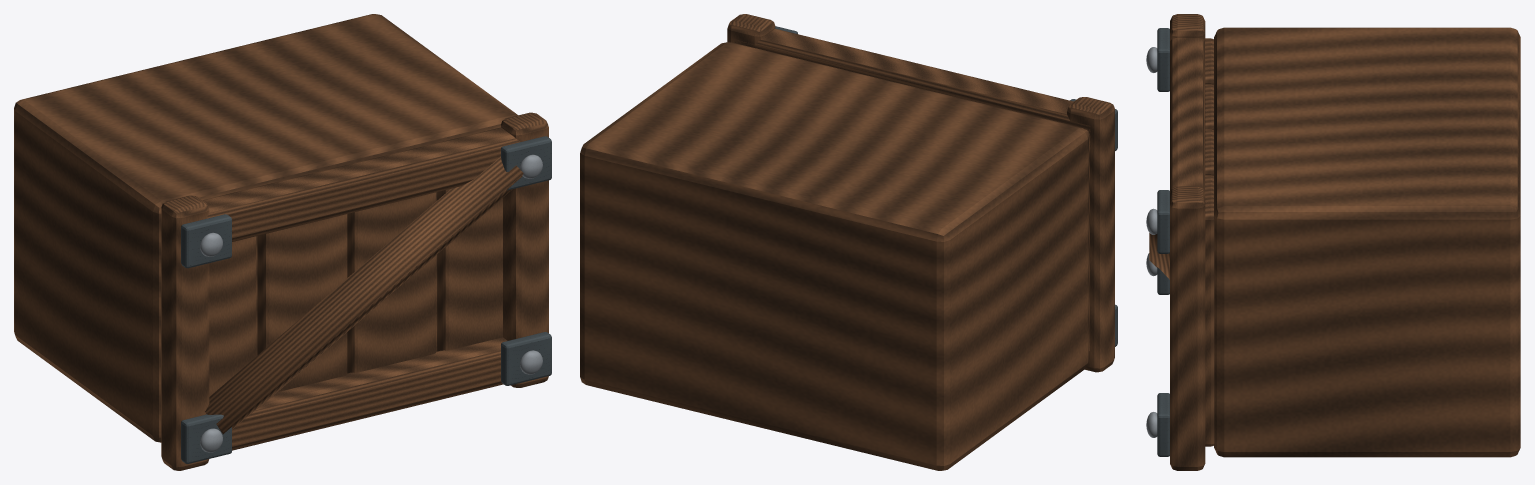
Rendered from crate.glb.
The picture shows the model from 3 angles, left to right: view 1: azimuth 30°, elevation 25°; view 2: azimuth 150°, elevation 25°; view 3: azimuth 270°, elevation 25°; orthographic projection. The views are drawn at different scales.
Visible parts, largest first — view 1: crate; view 2: crate; view 3: crate.
Boxes of the visible parts, box(x1,y1,x2,y2) form: crate: box(14, 14, 551, 470); crate: box(580, 14, 1117, 470); crate: box(1146, 14, 1520, 470).
Bounding box in the file's own units: 1.53 × 1.02 × 1.27.
Materials: 3 (3 with a texture image).
